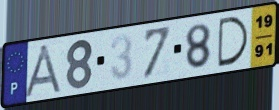3: (109, 33, 136, 83)
7: (142, 23, 174, 81)
8: (64, 38, 94, 91), (183, 22, 214, 71)
A: (22, 42, 66, 99)
D: (217, 15, 251, 70)
